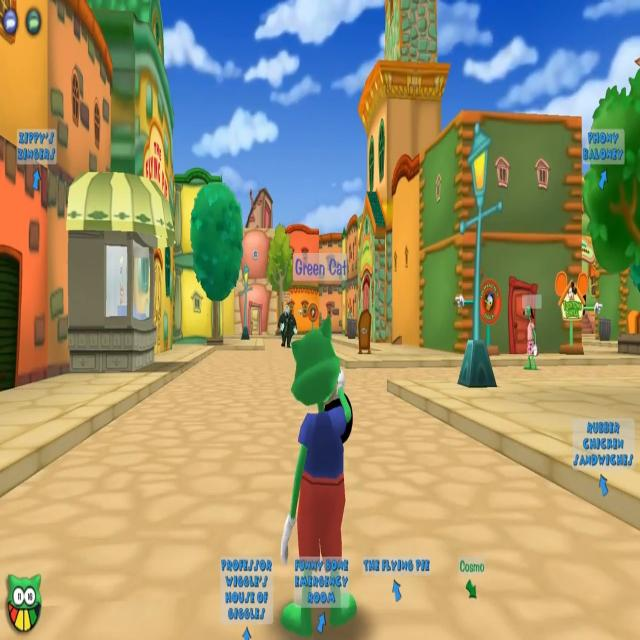tightwad: (275, 286, 296, 349)
